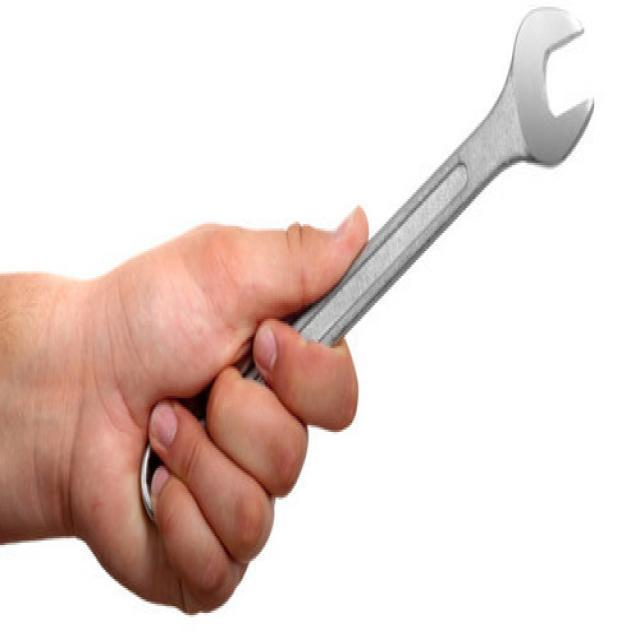wrench: (141, 0, 597, 515)
